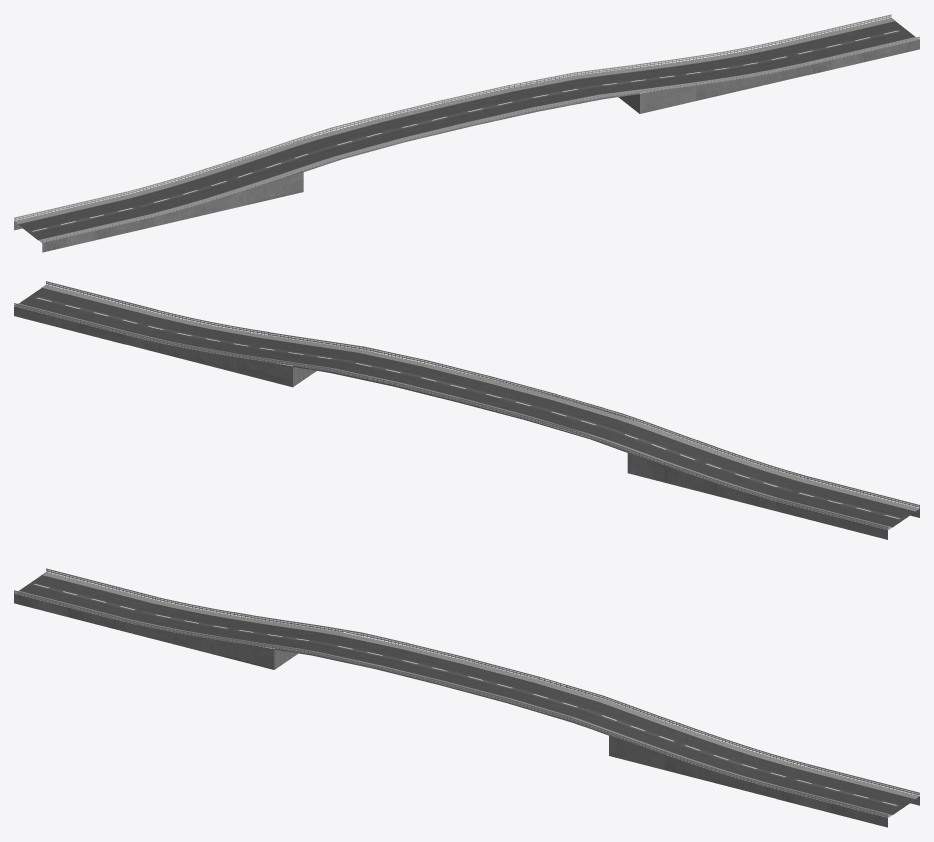
Rendered from kano_urban_flyover.glb.
3 views of the same model, one above another, from view 1: azimuth 30°, elevation 25°; view 2: azimuth 150°, elevation 25°; view 3: azimuth 330°, elevation 25° (orthographic). The views are drawn at different scales.
Visible parts, largest first — view 1: Flyover; view 2: Flyover; view 3: Flyover.
Part boxes in pixels (box(x1,y1,x2,y2)): Flyover: box(14, 14, 919, 252); Flyover: box(14, 281, 919, 539); Flyover: box(14, 568, 919, 827).
Bounding box in the file's own units: 235 × 8.18 × 19.12.
2 materials, 2 textured.
